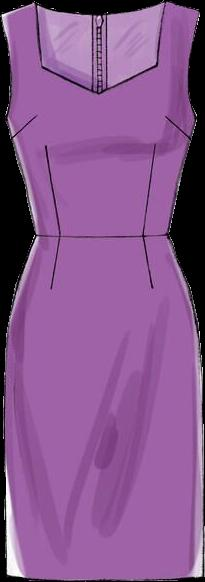Bodice: (2, 1, 199, 237)
Hemline: (5, 570, 204, 581)
Neckline: (33, 1, 169, 97)
Skirt: (5, 234, 202, 579)
Waistline: (34, 230, 171, 242)
